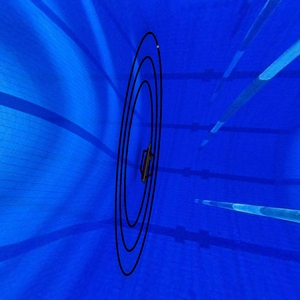circle: (113, 29, 164, 282)
submarine: (138, 141, 157, 185)
